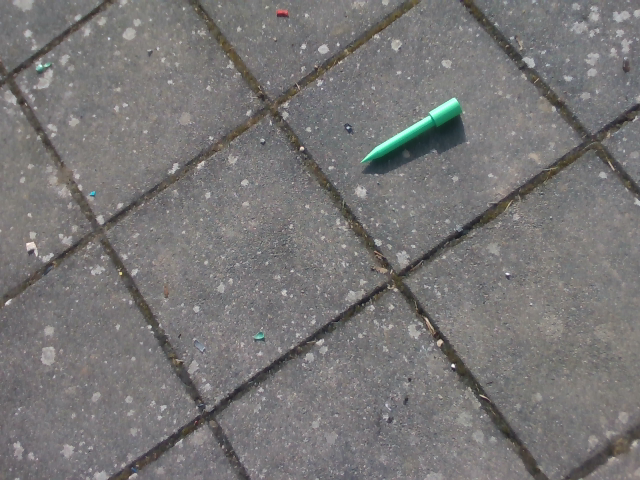Probe: (357, 89, 469, 168)
